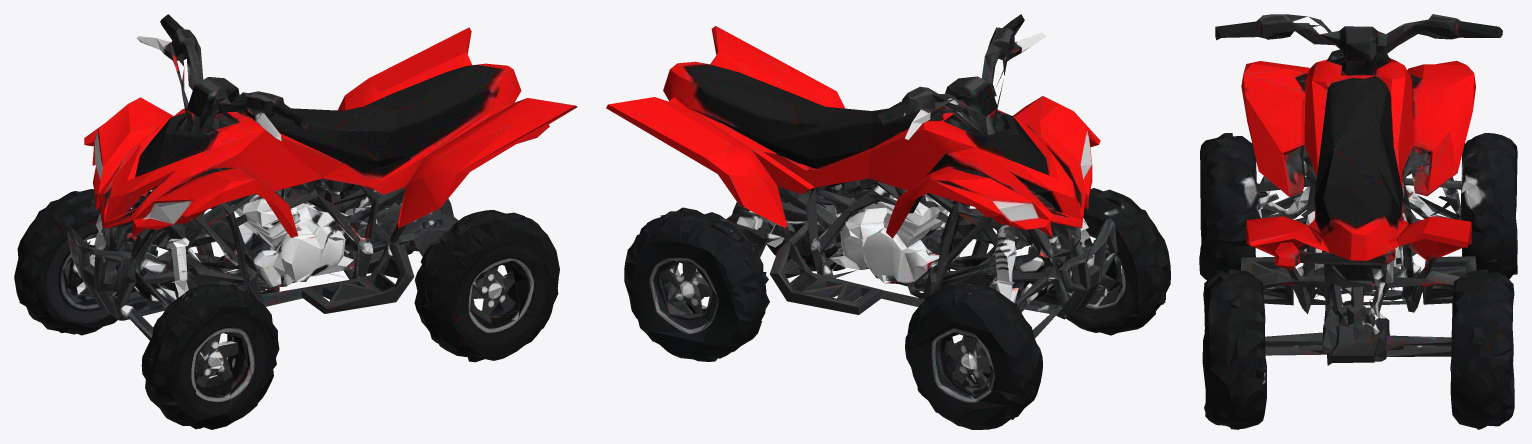
File: red-atv.glb
The picture shows the model from 3 angles, left to right: view 1: azimuth 30°, elevation 25°; view 2: azimuth 150°, elevation 25°; view 3: azimuth 270°, elevation 25°; orthographic projection. The views are drawn at different scales.
Parts seen in each view (by area): view 1: Mesh_0; view 2: Mesh_0; view 3: Mesh_0.
Boxes of the visible parts, x1,y1,x2,y2 form: Mesh_0: [14, 14, 577, 429]; Mesh_0: [606, 14, 1170, 429]; Mesh_0: [1199, 14, 1517, 429].
Bounding box in the file's own units: 1.87 × 1.2 × 1.14.
1 material, 1 textured.
